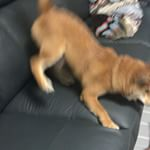puppy: (26, 1, 150, 131)
